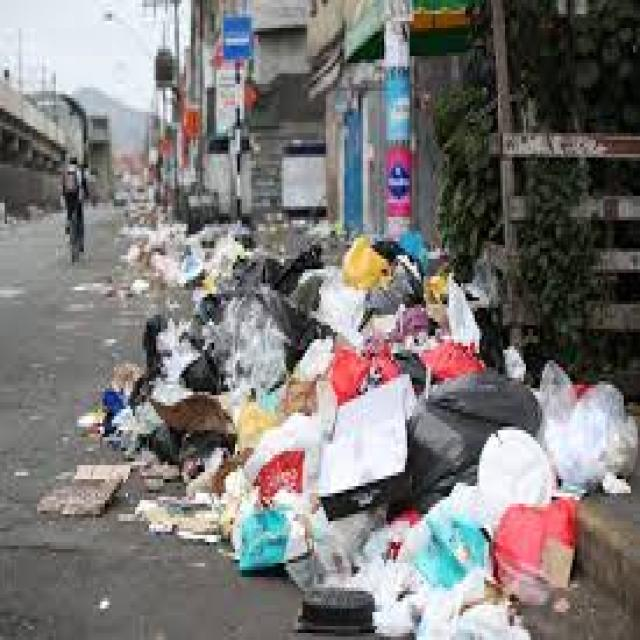garbage: (113, 212, 640, 640)
